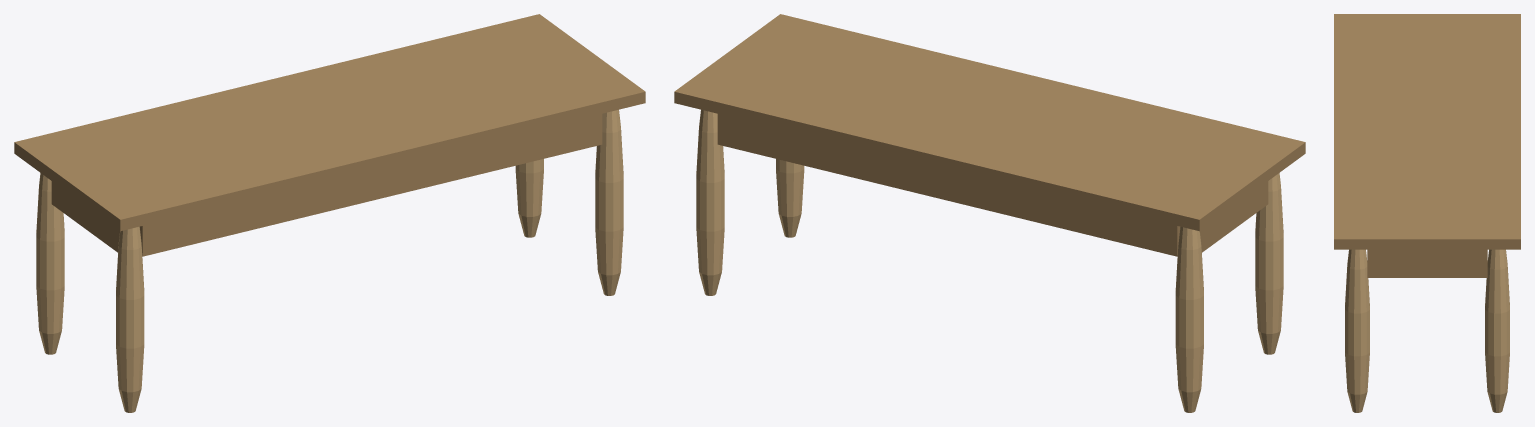
File: SAB-OBN-std.glb
The picture shows the model from 3 angles, left to right: view 1: azimuth 30°, elevation 25°; view 2: azimuth 150°, elevation 25°; view 3: azimuth 270°, elevation 25°; orthographic projection. The views are drawn at different scales.
Visible parts, largest first — view 1: top:pbr, apron-f:pbr, leg-fl:pbr, leg-fr:pbr, leg-bl:pbr, leg-br:pbr, apron-l:pbr; view 2: top:pbr, apron-b:pbr, leg-bl:pbr, leg-br:pbr, leg-fl:pbr, leg-fr:pbr, apron-l:pbr; view 3: top:pbr, leg-fr:pbr, leg-br:pbr, apron-r:pbr.
Boxes of the visible parts, <box> form: top:pbr: <box>14,14,645,231</box>; apron-f:pbr: <box>139,114,602,256</box>; leg-fl:pbr: <box>116,226,144,412</box>; leg-fr:pbr: <box>595,109,623,295</box>; leg-bl:pbr: <box>36,173,64,354</box>; leg-br:pbr: <box>515,159,543,237</box>; apron-l:pbr: <box>51,181,119,252</box>; top:pbr: <box>674,14,1305,231</box>; apron-b:pbr: <box>717,114,1180,256</box>; leg-bl:pbr: <box>1175,226,1203,412</box>; leg-br:pbr: <box>696,109,724,295</box>; leg-fl:pbr: <box>1255,173,1283,354</box>; leg-fr:pbr: <box>776,159,804,237</box>; apron-l:pbr: <box>1200,181,1268,252</box>; top:pbr: <box>1334,14,1520,249</box>; leg-fr:pbr: <box>1345,249,1369,412</box>; leg-br:pbr: <box>1485,249,1509,412</box>; apron-r:pbr: <box>1367,249,1487,277</box>.
Bounding box in the file's own units: 1.2 × 0.45 × 0.42.
